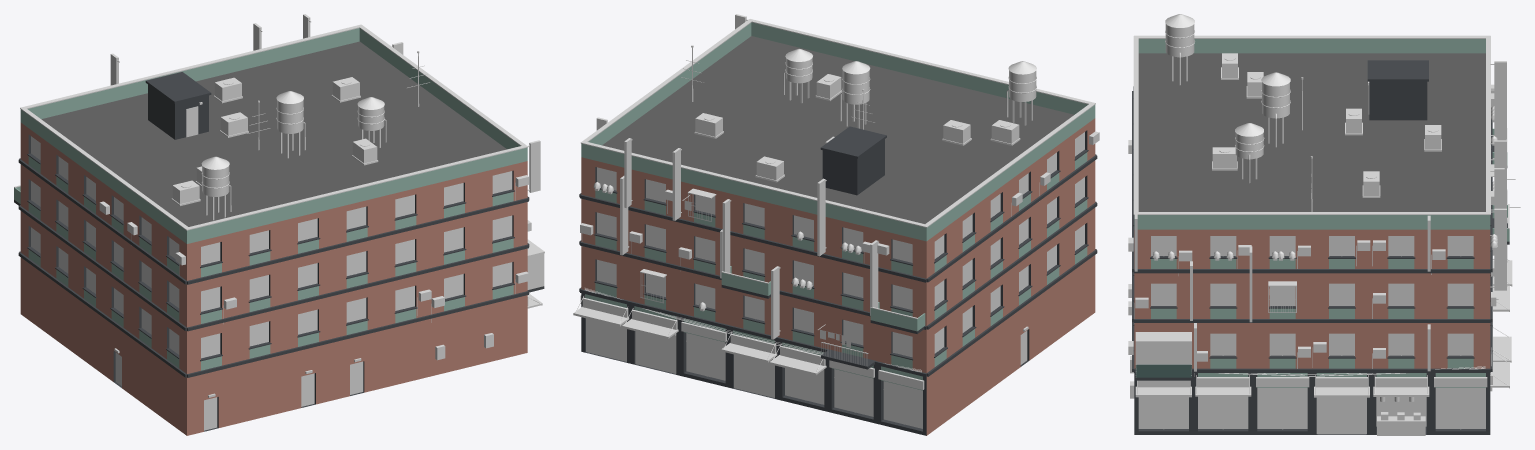
The model's file is Plaza_Block_18.fbx.
3 views of the same model, side by side, from view 1: azimuth 30°, elevation 25°; view 2: azimuth 150°, elevation 25°; view 3: azimuth 270°, elevation 25° (orthographic). The views are drawn at different scales.
Parts seen in each view (by area): view 1: Plaza_Block_18_LOD0; view 2: Plaza_Block_18_LOD0; view 3: Plaza_Block_18_LOD0.
Part boxes in pixels (bbox=[...]): Plaza_Block_18_LOD0: bbox=[14, 14, 544, 435]; Plaza_Block_18_LOD0: bbox=[573, 14, 1099, 435]; Plaza_Block_18_LOD0: bbox=[1128, 14, 1520, 435].
Size of what is drawn, in the model's own units: 27.91 by 18.59 by 24.24.
